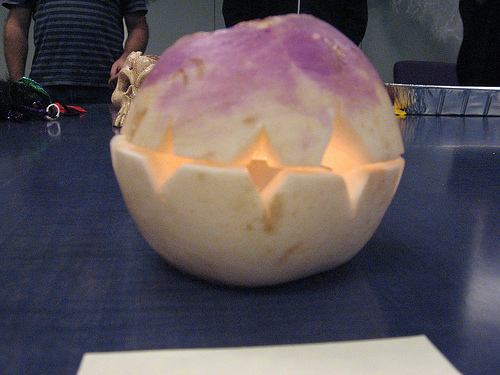turnip: (108, 12, 406, 287)
